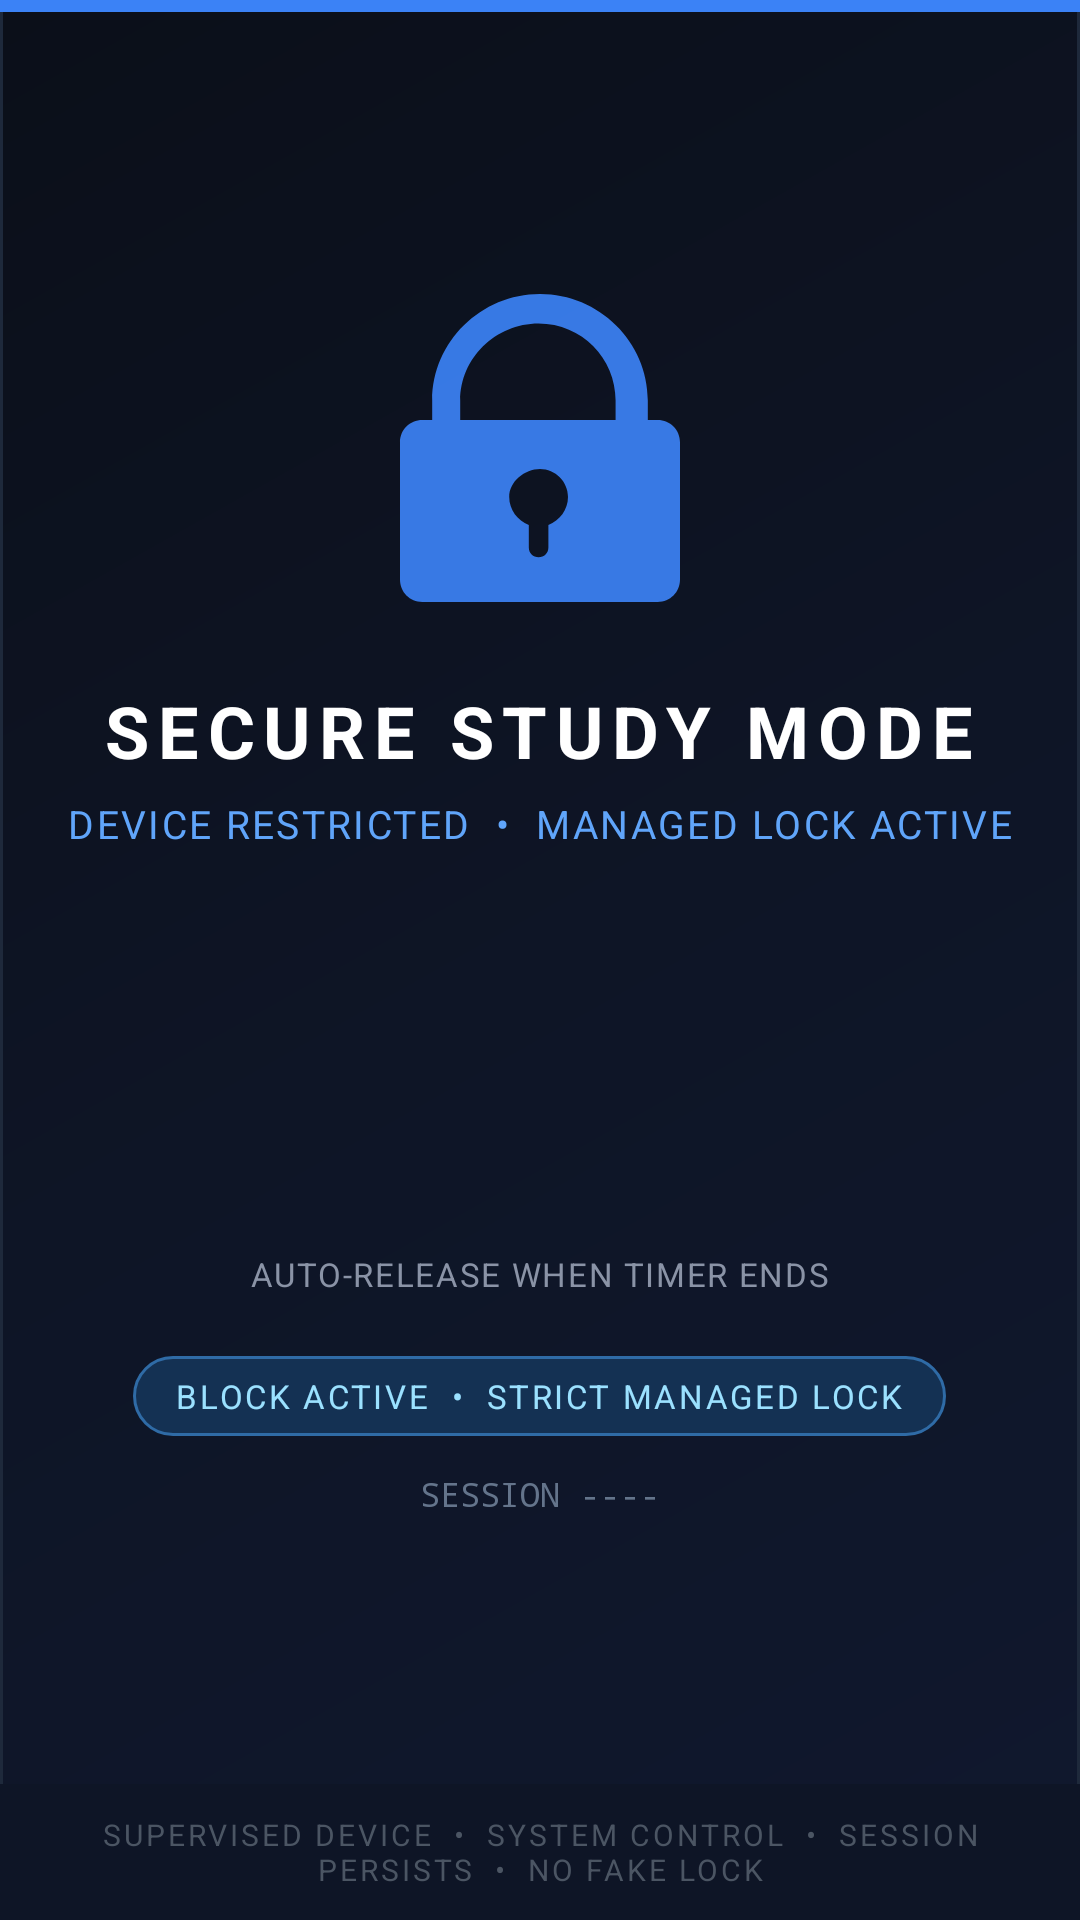

Screen size 1080 × 1920. Icon name, then its center in pixels as (x=x, y=y):
Strict Managed Lock: (x=540, y=448)
